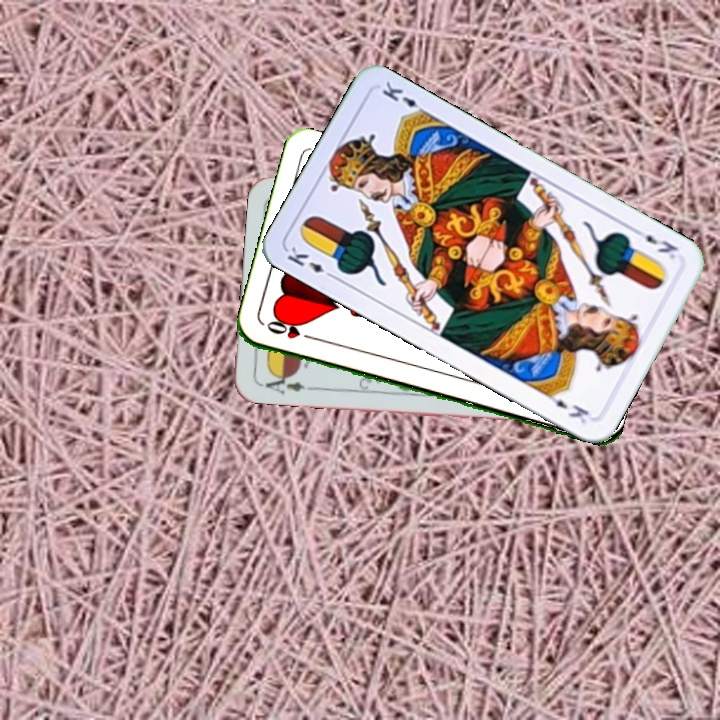EA: (257, 368, 316, 397)
EK: (282, 242, 339, 282), (629, 224, 681, 262)
HO: (262, 318, 319, 343)
